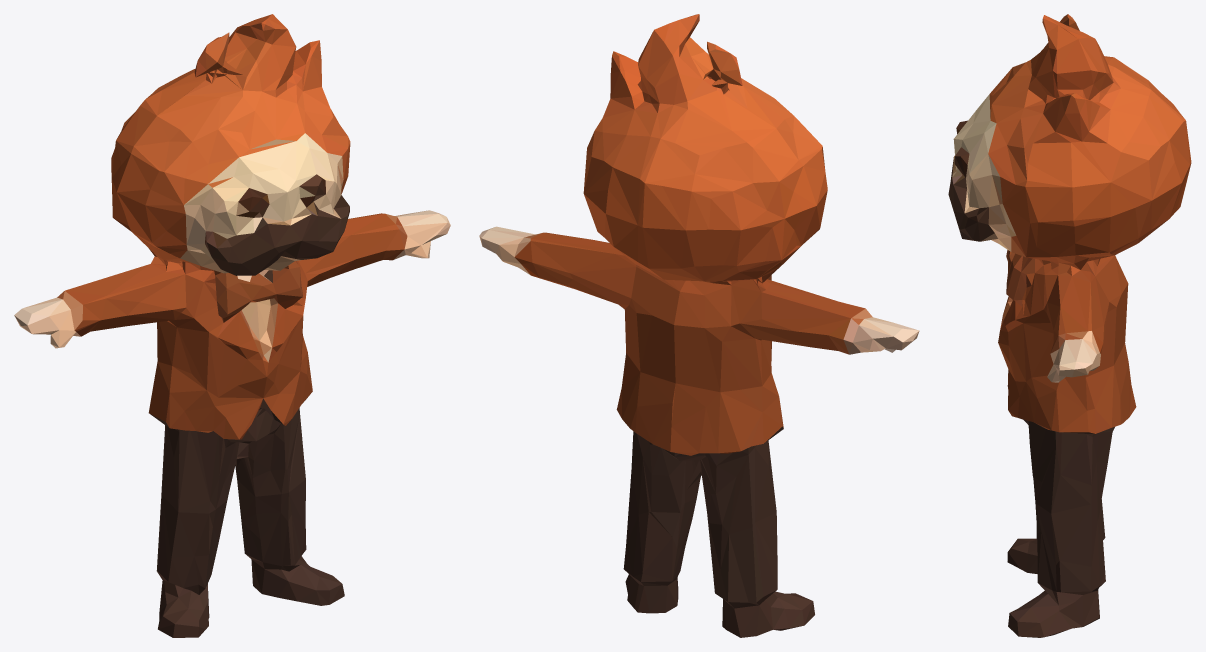
Rendered from pringles-hot-ones-los-calientes-potato-crisps-chip.glb.
The picture shows the model from 3 angles, left to right: view 1: azimuth 30°, elevation 25°; view 2: azimuth 150°, elevation 25°; view 3: azimuth 270°, elevation 25°; orthographic projection.
Visible parts, largest first — view 1: retopo_mesh; view 2: retopo_mesh; view 3: retopo_mesh.
Boxes of the visible parts, bbox=[...] form: retopo_mesh: bbox=[14, 14, 450, 637]; retopo_mesh: bbox=[479, 14, 919, 637]; retopo_mesh: bbox=[948, 14, 1191, 637].
Size of the model in its own units: 1.52 by 1.99 by 0.7431.
1 material, 1 textured.
